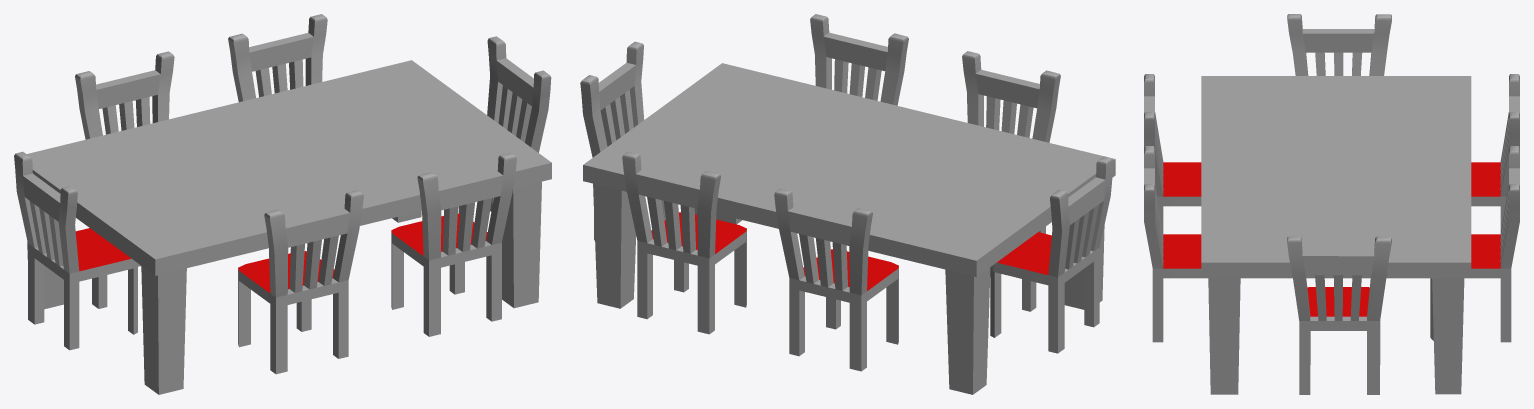
File: tawlaa.fbx
3 renders of one model, left to right at view 1: azimuth 30°, elevation 25°; view 2: azimuth 150°, elevation 25°; view 3: azimuth 270°, elevation 25°, orthographic. The views are drawn at different scales.
Parts seen in each view (by area): view 1: pCube8; view 2: pCube8; view 3: pCube8.
Boxes of the visible parts, x1,y1,x2,y2 form: pCube8: [14, 14, 551, 394]; pCube8: [580, 14, 1115, 394]; pCube8: [1144, 14, 1519, 394].
Bounding box in the file's own units: 23.32 × 8.57 × 16.29.
